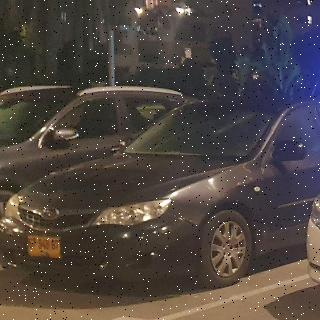LicensePlate: (28, 236, 61, 252)
